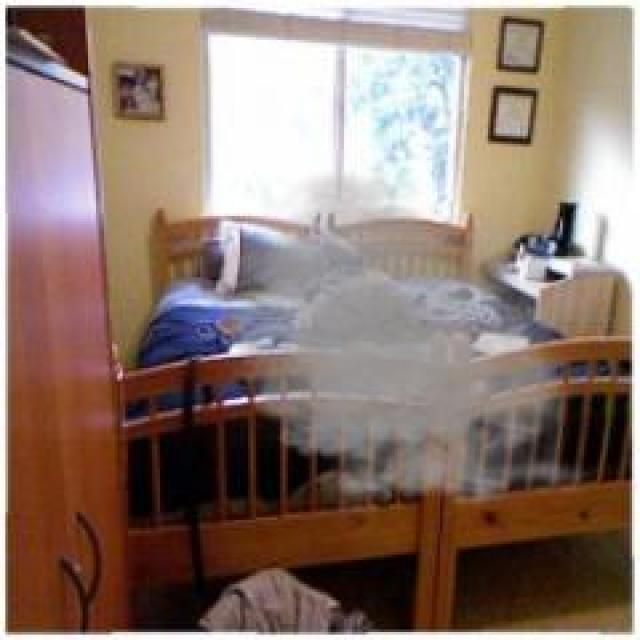Smoke: (217, 165, 605, 528)
